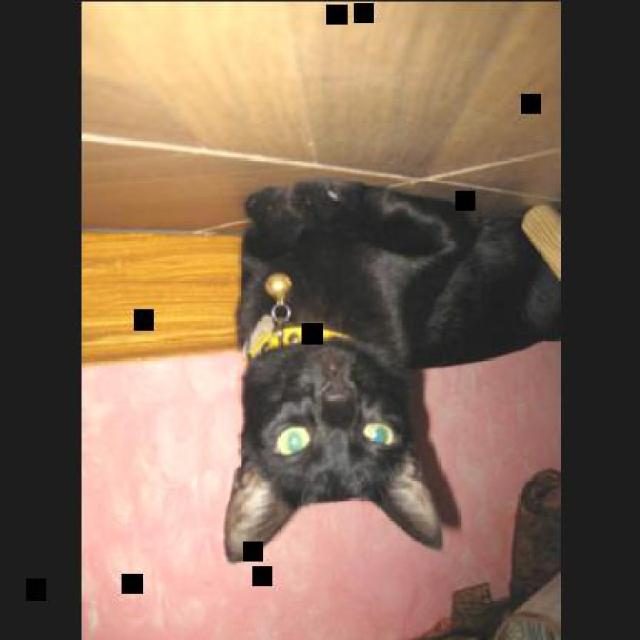unauthorized: (222, 177, 560, 563)
